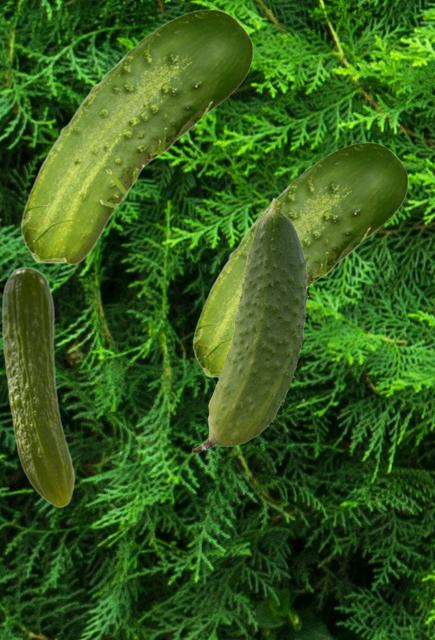cucumber: (20, 9, 252, 264), (192, 142, 407, 378), (192, 198, 308, 452), (1, 266, 74, 507)
